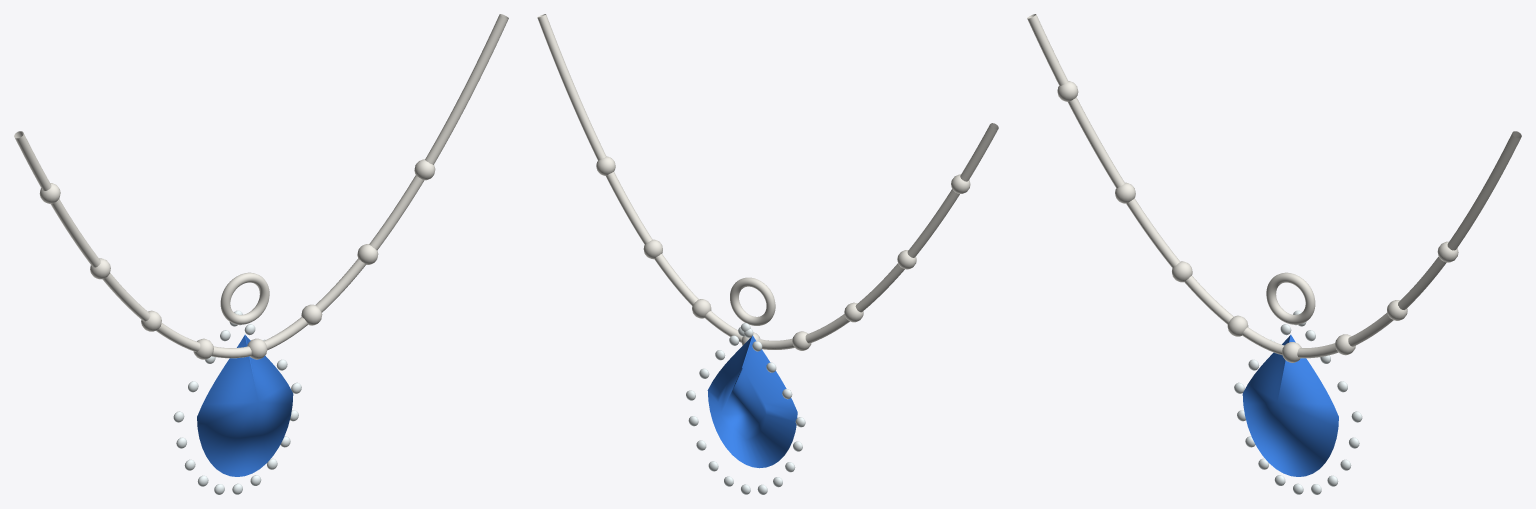
File: teardrop-necklace.v3.safe.glb
3 views of the same model, side by side, from view 1: azimuth 30°, elevation 25°; view 2: azimuth 150°, elevation 25°; view 3: azimuth 330°, elevation 25° (orthographic). The views are drawn at different scales.
Visible parts, largest first — view 1: teardrop_blue_sapphire, teardrop_continuous_chain, teardrop_bail; view 2: teardrop_blue_sapphire, teardrop_continuous_chain, teardrop_bail; view 3: teardrop_blue_sapphire, teardrop_continuous_chain, teardrop_bail.
Boxes of the visible parts, x1=… form: teardrop_blue_sapphire: x1=197, y1=334, x2=293, y2=476; teardrop_continuous_chain: x1=14, y1=14, x2=508, y2=358; teardrop_bail: x1=220, y1=272, x2=269, y2=324; teardrop_blue_sapphire: x1=707, y1=335, x2=797, y2=468; teardrop_continuous_chain: x1=537, y1=14, x2=998, y2=349; teardrop_bail: x1=730, y1=277, x2=775, y2=325; teardrop_blue_sapphire: x1=1242, y1=334, x2=1338, y2=476; teardrop_continuous_chain: x1=1027, y1=14, x2=1521, y2=358; teardrop_bail: x1=1266, y1=272, x2=1315, y2=324.
Bounding box in the file's own units: 1.38 × 1.17 × 0.1483.
